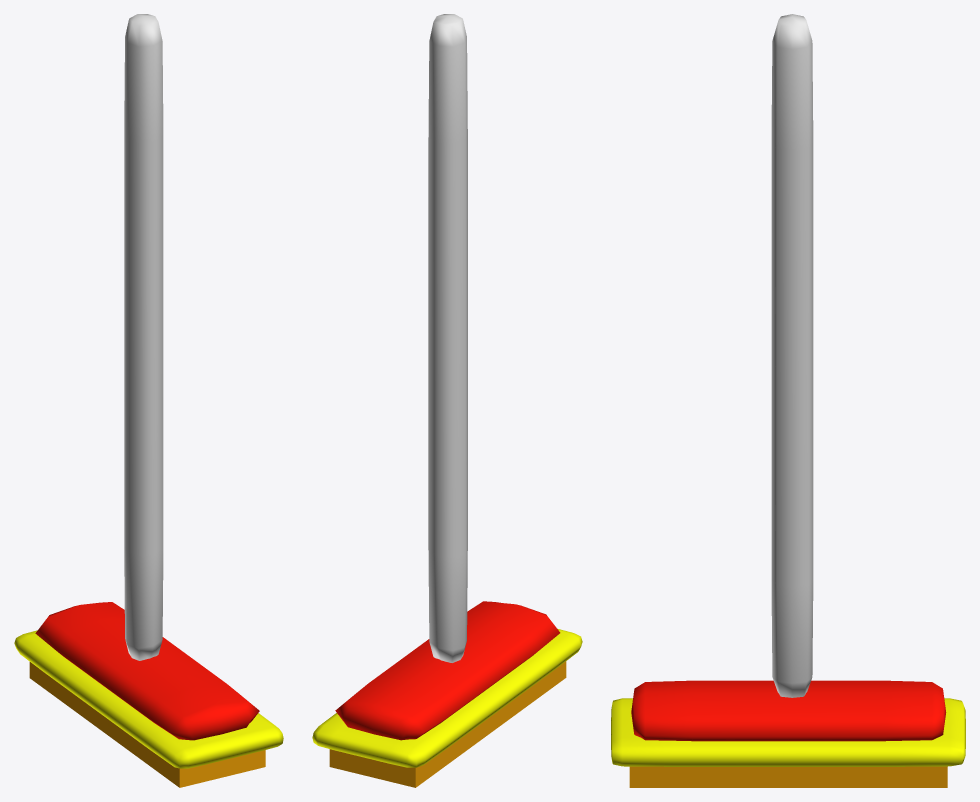
Rendered from Broom.fbx.
3 renders of one model, left to right at view 1: azimuth 30°, elevation 25°; view 2: azimuth 150°, elevation 25°; view 3: azimuth 270°, elevation 25°, orthographic. The views are drawn at different scales.
Parts seen in each view (by area): view 1: Cube.057; view 2: Cube.057; view 3: Cube.057.
Part boxes in pixels (x1,y1,x2,y2): Cube.057: [14, 14, 283, 787]; Cube.057: [312, 14, 582, 787]; Cube.057: [611, 14, 965, 787].
Size of the model in its own units: 120 by 734 by 316.
